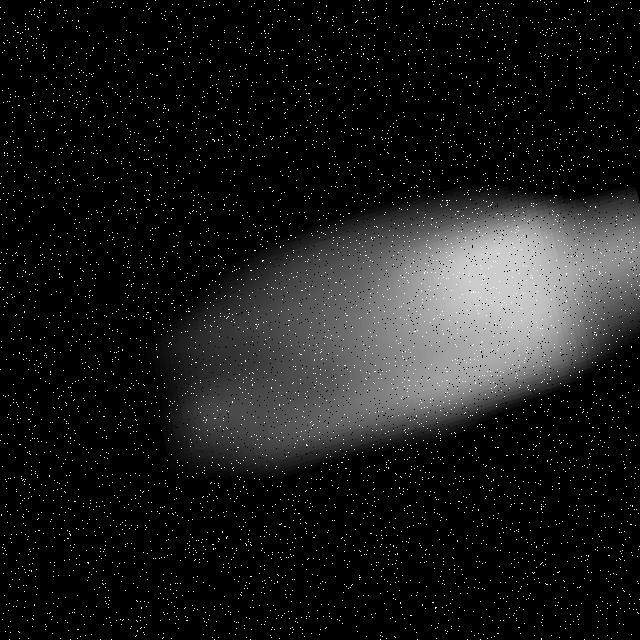person: (92, 129, 640, 542)
